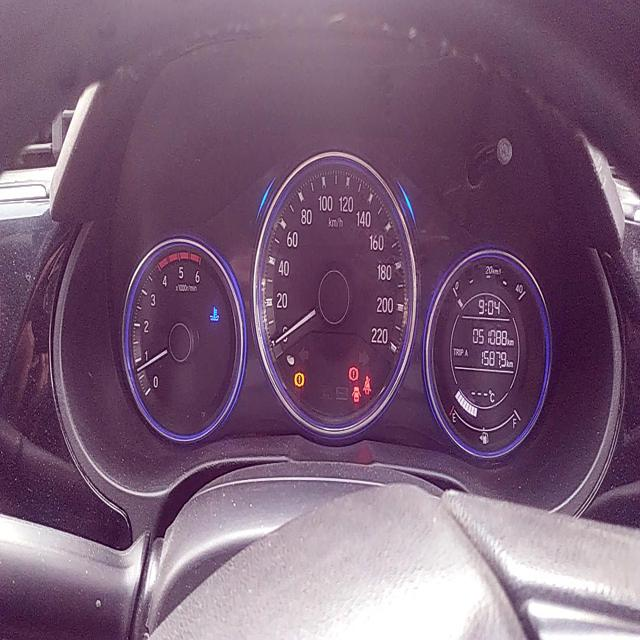odometer: (469, 324, 508, 350)
